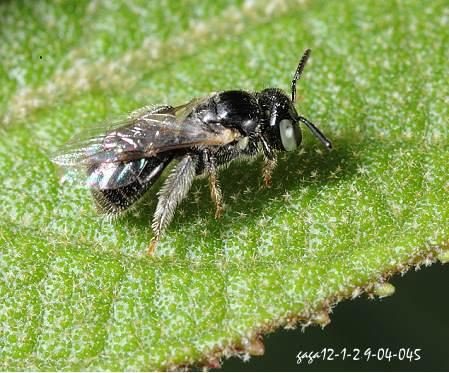Braunsapis: (54, 51, 330, 239)
